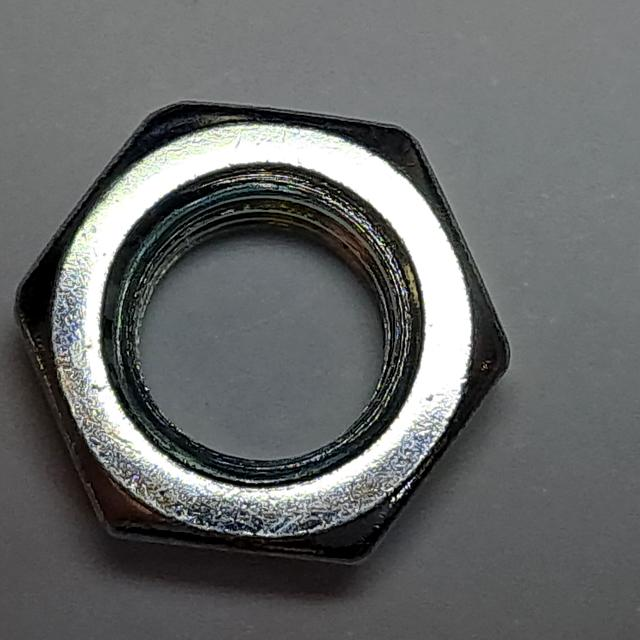Excellent: (1, 85, 519, 579)
